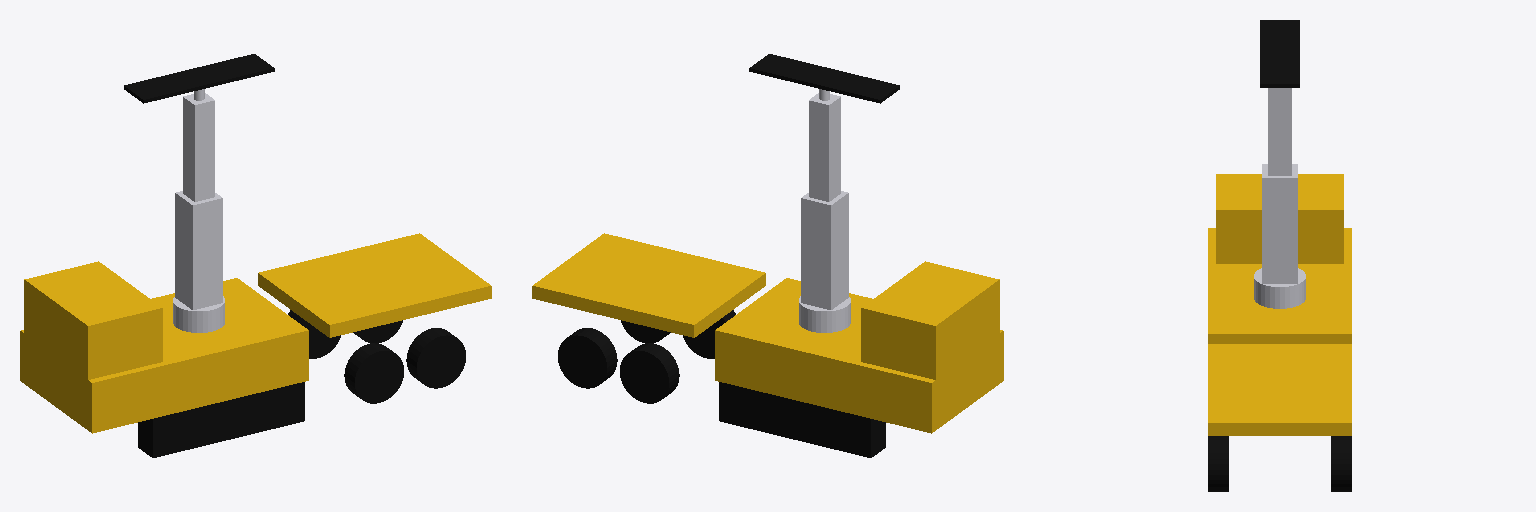
robot.urdf — leapting-mmr:
<?xml version="1.0"?>
<robot name="leapting-mmr">
  <material name="cuerpo"><color rgba="0.95 0.75 0.1 1"/></material>
  <material name="brazo"><color rgba="0.85 0.85 0.88 1"/></material>
  <material name="negro"><color rgba="0.1 0.1 0.1 1"/></material>

  <link name="base_link">
    <visual><origin xyz="0 0 0.9"/><geometry><box size="3.145 1.8 0.7"/></geometry><material name="cuerpo"/></visual>
    <collision><origin xyz="0 0 0.9"/><geometry><box size="3.145 1.8 0.7"/></geometry></collision>
    <inertial>
      <origin xyz="0 0 0.9"/><mass value="2987.7"/>
      <inertia ixx="928.67675" iyy="2584.61570" izz="3269.29695" ixy="0" ixz="0" iyz="0"/>
    </inertial>
  </link>

  <link name="oruga_0">
    <visual><origin xyz="0 0 0.275"/><geometry><box size="2.201 0.36 0.55"/></geometry><material name="negro"/></visual>
    <collision><origin xyz="0 0 0.275"/><geometry><box size="2.201 0.36 0.55"/></geometry></collision>
    <inertial>
      <origin xyz="0 0 0.275"/><mass value="540.0"/>
      <inertia ixx="19.44450" iyy="231.61055" izz="223.83005" ixy="0" ixz="0" iyz="0"/>
    </inertial>
  </link>
  <joint name="oruga_0_fija" type="fixed"><parent link="base_link"/><child link="oruga_0"/><origin xyz="0.4088 0.72 0" rpy="0 0 0"/></joint>

  <link name="oruga_1">
    <visual><origin xyz="0 0 0.275"/><geometry><box size="2.201 0.36 0.55"/></geometry><material name="negro"/></visual>
    <collision><origin xyz="0 0 0.275"/><geometry><box size="2.201 0.36 0.55"/></geometry></collision>
    <inertial>
      <origin xyz="0 0 0.275"/><mass value="540.0"/>
      <inertia ixx="19.44450" iyy="231.61055" izz="223.83005" ixy="0" ixz="0" iyz="0"/>
    </inertial>
  </link>
  <joint name="oruga_1_fija" type="fixed"><parent link="base_link"/><child link="oruga_1"/><origin xyz="0.4088 -0.72 0" rpy="0 0 0"/></joint>

  <link name="gabinete">
    <visual><origin xyz="0 0 0.375"/><geometry><box size="1.08 1.6 0.75"/></geometry><material name="cuerpo"/></visual>
    <collision><origin xyz="0 0 0.375"/><geometry><box size="1.08 1.6 0.75"/></geometry></collision>
    <inertial>
      <origin xyz="0 0 0.375"/><mass value="360.0"/>
      <inertia ixx="93.67500" iyy="51.86700" izz="111.79200" ixy="0" ixz="0" iyz="0"/>
    </inertial>
  </link>
  <joint name="gabinete_fija" type="fixed"><parent link="base_link"/><child link="gabinete"/><origin xyz="-1.0325 0 1.25" rpy="0 0 0"/></joint>

  <link name="remolque">
    <visual><origin xyz="0 0 0.09"/><geometry><box size="2.35 1.8 0.18"/></geometry><material name="cuerpo"/></visual>
    <collision><origin xyz="0 0 0.09"/><geometry><box size="2.35 1.8 0.18"/></geometry></collision>
    <inertial>
      <origin xyz="0 0 0.09"/><mass value="1932.0"/>
      <inertia ixx="526.85640" iyy="894.33890" izz="1410.76250" ixy="0" ixz="0" iyz="0"/>
    </inertial>
  </link>
  <joint name="remolque_fija" type="fixed"><parent link="base_link"/><child link="remolque"/><origin xyz="3.0475 0 1.07" rpy="0 0 0"/></joint>

  <link name="rueda_remolque_0">
    <visual><origin xyz="0 0 0"/><geometry><cylinder radius="0.36" length="0.26"/></geometry><material name="negro"/></visual>
    <collision><origin xyz="0 0 0"/><geometry><cylinder radius="0.36" length="0.26"/></geometry></collision>
    <inertial>
      <origin xyz="0 0 0"/><mass value="92.0"/>
      <inertia ixx="3.49907" iyy="3.49907" izz="5.96160" ixy="0" ixz="0" iyz="0"/>
    </inertial>
  </link>
  <joint name="rueda_remolque_0_fija" type="fixed"><parent link="base_link"/><child link="rueda_remolque_0"/><origin xyz="2.5975 0.77 0.36" rpy="1.5708 0 0"/></joint>

  <link name="rueda_remolque_1">
    <visual><origin xyz="0 0 0"/><geometry><cylinder radius="0.36" length="0.26"/></geometry><material name="negro"/></visual>
    <collision><origin xyz="0 0 0"/><geometry><cylinder radius="0.36" length="0.26"/></geometry></collision>
    <inertial>
      <origin xyz="0 0 0"/><mass value="92.0"/>
      <inertia ixx="3.49907" iyy="3.49907" izz="5.96160" ixy="0" ixz="0" iyz="0"/>
    </inertial>
  </link>
  <joint name="rueda_remolque_1_fija" type="fixed"><parent link="base_link"/><child link="rueda_remolque_1"/><origin xyz="2.5975 -0.77 0.36" rpy="1.5708 0 0"/></joint>

  <link name="rueda_remolque_2">
    <visual><origin xyz="0 0 0"/><geometry><cylinder radius="0.36" length="0.26"/></geometry><material name="negro"/></visual>
    <collision><origin xyz="0 0 0"/><geometry><cylinder radius="0.36" length="0.26"/></geometry></collision>
    <inertial>
      <origin xyz="0 0 0"/><mass value="92.0"/>
      <inertia ixx="3.49907" iyy="3.49907" izz="5.96160" ixy="0" ixz="0" iyz="0"/>
    </inertial>
  </link>
  <joint name="rueda_remolque_2_fija" type="fixed"><parent link="base_link"/><child link="rueda_remolque_2"/><origin xyz="3.4975 0.77 0.36" rpy="1.5708 0 0"/></joint>

  <link name="rueda_remolque_3">
    <visual><origin xyz="0 0 0"/><geometry><cylinder radius="0.36" length="0.26"/></geometry><material name="negro"/></visual>
    <collision><origin xyz="0 0 0"/><geometry><cylinder radius="0.36" length="0.26"/></geometry></collision>
    <inertial>
      <origin xyz="0 0 0"/><mass value="92.0"/>
      <inertia ixx="3.49907" iyy="3.49907" izz="5.96160" ixy="0" ixz="0" iyz="0"/>
    </inertial>
  </link>
  <joint name="rueda_remolque_3_fija" type="fixed"><parent link="base_link"/><child link="rueda_remolque_3"/><origin xyz="3.4975 -0.77 0.36" rpy="1.5708 0 0"/></joint>

  <link name="hombro">
    <visual><origin xyz="0 0 0.15"/><geometry><cylinder radius="0.33" length="0.3"/></geometry><material name="brazo"/></visual>
    <collision><origin xyz="0 0 0.15"/><geometry><cylinder radius="0.33" length="0.3"/></geometry></collision>
    <inertial>
      <origin xyz="0 0 0.15"/><mass value="14.963"/>
      <inertia ixx="0.51959" iyy="0.51959" izz="0.81474" ixy="0" ixz="0" iyz="0"/>
    </inertial>
  </link>

  <joint name="shoulder_pan" type="revolute">
    <parent link="base_link"/><child link="hombro"/>
    <origin xyz="0.5 0 1.25"/><axis xyz="0 0 1"/>
    <limit lower="-3.1" upper="3.1" effort="1500" velocity="1.5"/>
    <dynamics damping="5.0" friction="0.0"/>
  </joint>

  <link name="brazo">
    <visual><origin xyz="0 0 0.728"/><geometry><box size="0.44 0.44 1.456"/></geometry><material name="brazo"/></visual>
    <collision><origin xyz="0 0 0.728"/><geometry><box size="0.44 0.44 1.456"/></geometry></collision>
    <inertial>
      <origin xyz="0 0 0.728"/><mass value="30.192"/>
      <inertia ixx="5.82086" iyy="5.82086" izz="0.97420" ixy="0" ixz="0" iyz="0"/>
    </inertial>
  </link>

  <joint name="shoulder_lift" type="revolute">
    <parent link="hombro"/><child link="brazo"/>
    <origin xyz="0 0 0.3"/><axis xyz="0 1 0"/>
    <limit lower="-3.1" upper="3.1" effort="3000" velocity="1.5"/>
    <dynamics damping="5.0" friction="0.0"/>
  </joint>

  <link name="antebrazo">
    <visual><origin xyz="0 0 0.672"/><geometry><box size="0.3 0.3 1.344"/></geometry><material name="brazo"/></visual>
    <collision><origin xyz="0 0 0.672"/><geometry><box size="0.3 0.3 1.344"/></geometry></collision>
    <inertial>
      <origin xyz="0 0 0.672"/><mass value="18.398"/>
      <inertia ixx="2.90740" iyy="2.90740" izz="0.27597" ixy="0" ixz="0" iyz="0"/>
    </inertial>
  </link>

  <joint name="elbow" type="revolute">
    <parent link="brazo"/><child link="antebrazo"/>
    <origin xyz="0 0 1.456"/><axis xyz="0 1 0"/>
    <limit lower="-3.1" upper="3.1" effort="1500" velocity="1.5"/>
    <dynamics damping="5.0" friction="0.0"/>
  </joint>

  <link name="muneca_1">
    <visual><origin xyz="0 0 0.075"/><geometry><cylinder radius="0.07" length="0.15"/></geometry><material name="brazo"/></visual>
    <collision><origin xyz="0 0 0.075"/><geometry><cylinder radius="0.07" length="0.15"/></geometry></collision>
    <inertial>
      <origin xyz="0 0 0.075"/><mass value="1.87"/>
      <inertia ixx="0.00580" iyy="0.00580" izz="0.00458" ixy="0" ixz="0" iyz="0"/>
    </inertial>
  </link>

  <joint name="wrist_1" type="revolute">
    <parent link="antebrazo"/><child link="muneca_1"/>
    <origin xyz="0 0 1.344"/><axis xyz="0 1 0"/>
    <limit lower="-3.1" upper="3.1" effort="400" velocity="1.5"/>
    <dynamics damping="5.0" friction="0.0"/>
  </joint>

  <link name="muneca_2">
    <visual><origin xyz="0 0 0.05"/><geometry><cylinder radius="0.06" length="0.1"/></geometry><material name="brazo"/></visual>
    <collision><origin xyz="0 0 0.05"/><geometry><cylinder radius="0.06" length="0.1"/></geometry></collision>
    <inertial>
      <origin xyz="0 0 0.05"/><mass value="0.916"/>
      <inertia ixx="0.00159" iyy="0.00159" izz="0.00165" ixy="0" ixz="0" iyz="0"/>
    </inertial>
  </link>

  <joint name="wrist_2" type="revolute">
    <parent link="muneca_1"/><child link="muneca_2"/>
    <origin xyz="0 0 0.15"/><axis xyz="0 0 1"/>
    <limit lower="-3.1" upper="3.1" effort="200" velocity="1.5"/>
    <dynamics damping="5.0" friction="0.0"/>
  </joint>

  <link name="efector">
    <visual><origin xyz="0 0 0.025"/><geometry><box size="1.9 0.5 0.05"/></geometry><material name="negro"/></visual>
    <collision><origin xyz="0 0 0.025"/><geometry><box size="1.9 0.5 0.05"/></geometry></collision>
    <inertial>
      <origin xyz="0 0 0.025"/><mass value="6.0"/>
      <inertia ixx="0.12625" iyy="1.80625" izz="1.93000" ixy="0" ixz="0" iyz="0"/>
    </inertial>
  </link>

  <joint name="wrist_3" type="revolute">
    <parent link="muneca_2"/><child link="efector"/>
    <origin xyz="0 0 0.1"/><axis xyz="1 0 0"/>
    <limit lower="-3.1" upper="3.1" effort="200" velocity="1.5"/>
    <dynamics damping="5.0" friction="0.0"/>
  </joint>
</robot>

--- What the picture shows (computed from the rendered views, not written in the file) ---
3 views of the same robot in one strip: view 1: azimuth 30°, elevation 25°; view 2: azimuth 150°, elevation 25°; view 3: azimuth 270°, elevation 25° (orthographic).
Robot: leapting-mmr — 15 links, 14 joints (6 revolute, 8 fixed); root link base_link; default pose: every joint at zero.
Links seen in each view (by area): view 1: base_link, remolque, gabinete, oruga_1, brazo, antebrazo, efector, rueda_remolque_3, rueda_remolque_1, hombro, rueda_remolque_0, rueda_remolque_2; view 2: base_link, remolque, gabinete, oruga_0, brazo, antebrazo, efector, rueda_remolque_2, rueda_remolque_0, hombro, rueda_remolque_1, rueda_remolque_3; view 3: remolque, base_link, gabinete, brazo, efector, antebrazo, hombro, rueda_remolque_2, rueda_remolque_3.
Link boxes in pixels (x1,y1,x2,y2): base_link: [20, 278, 308, 433]; remolque: [258, 233, 491, 337]; gabinete: [24, 261, 162, 379]; oruga_1: [138, 382, 304, 457]; brazo: [175, 191, 222, 309]; antebrazo: [183, 93, 214, 201]; efector: [124, 54, 274, 103]; rueda_remolque_3: [406, 328, 465, 388]; rueda_remolque_1: [344, 343, 403, 403]; hombro: [173, 296, 224, 332]; rueda_remolque_0: [288, 310, 340, 358]; rueda_remolque_2: [353, 320, 402, 342]; base_link: [715, 278, 1003, 433]; remolque: [532, 233, 765, 337]; gabinete: [861, 261, 999, 379]; oruga_0: [719, 382, 885, 457]; brazo: [801, 191, 848, 309]; antebrazo: [809, 93, 840, 201]; efector: [749, 54, 899, 103]; rueda_remolque_2: [558, 328, 617, 388]; rueda_remolque_0: [620, 343, 679, 403]; hombro: [799, 296, 850, 332]; rueda_remolque_1: [683, 310, 735, 358]; rueda_remolque_3: [621, 320, 670, 342]; remolque: [1208, 344, 1351, 435]; base_link: [1208, 228, 1351, 343]; gabinete: [1216, 174, 1343, 263]; brazo: [1262, 164, 1297, 283]; efector: [1260, 20, 1299, 87]; antebrazo: [1268, 88, 1291, 175]; hombro: [1254, 268, 1305, 308]; rueda_remolque_2: [1331, 436, 1351, 491]; rueda_remolque_3: [1208, 436, 1228, 491].
Size in the robot's own frame: 5.79 by 1.8 by 4.65 metres.
Geometry: primitives only (box / cylinder / sphere), no mesh files.
